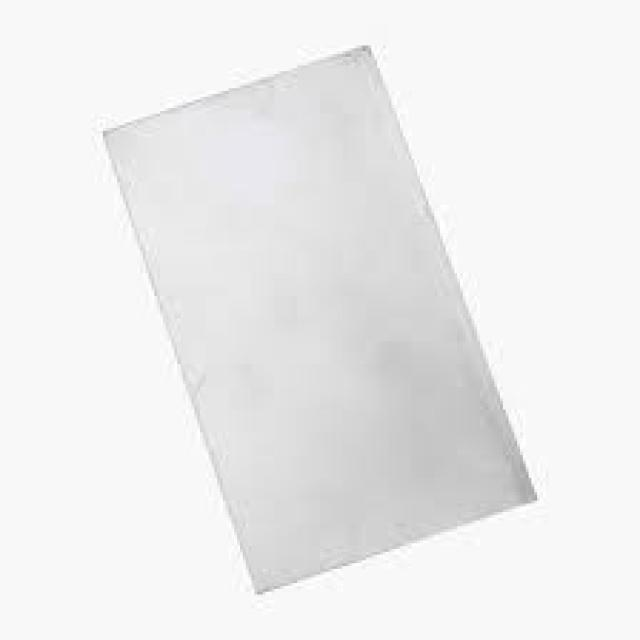Dry: (97, 46, 540, 594)
